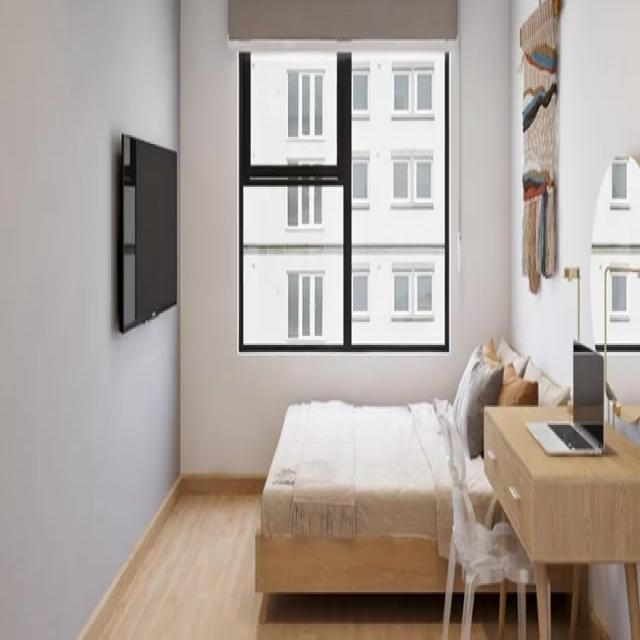obstacle: (255, 336, 621, 615), (482, 402, 639, 638)
